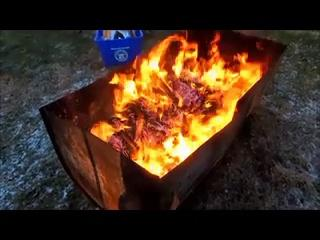fire: (93, 31, 263, 182)
